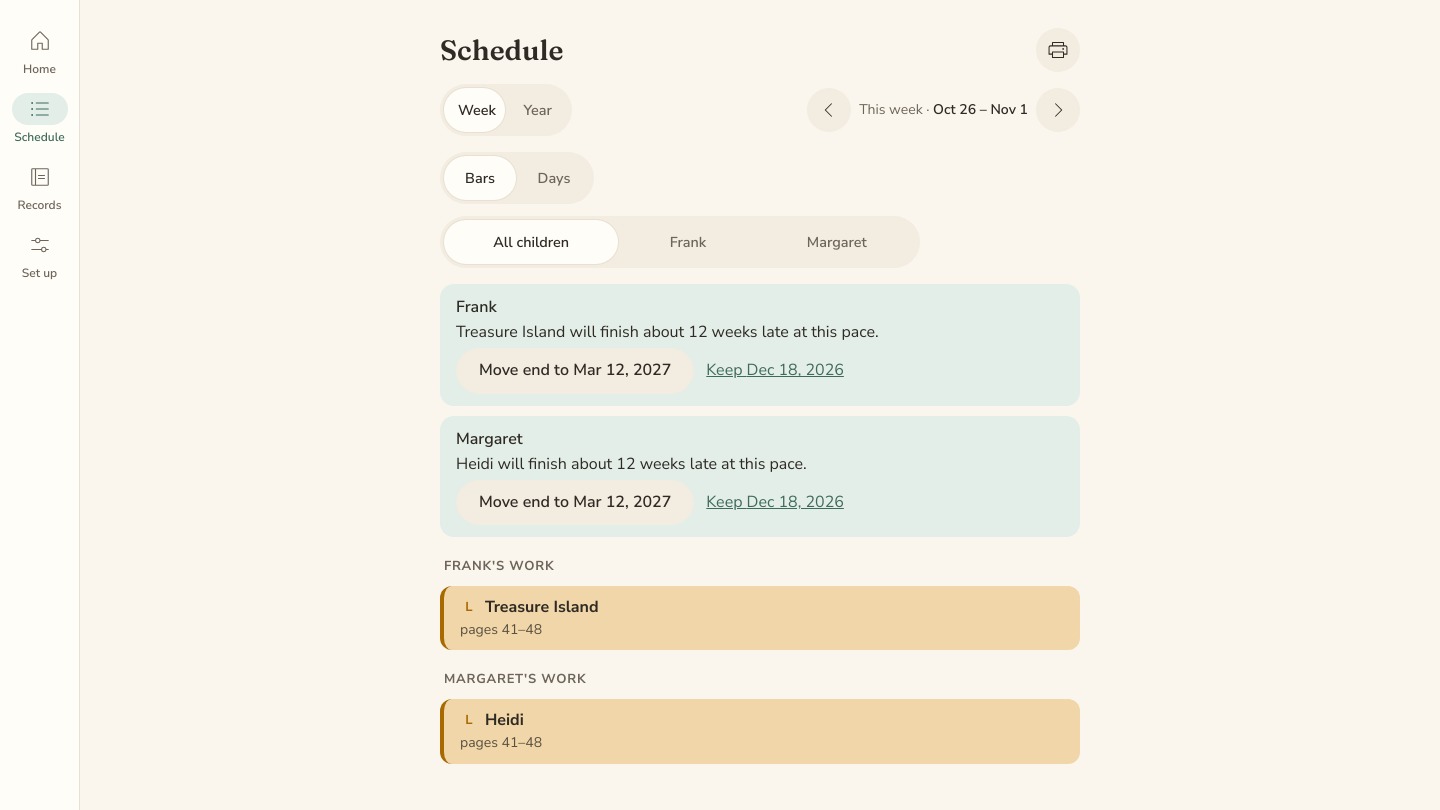
Test: 1. Schedule · Week: the briefing follows the child switch › All children shows both children's late lines; one child shows only theirs
The image size is (1440, 810).
Expected: the element named "Weekly briefing" is shown, [440,284,1080,537]
Click the button "Frank" at (688, 242), box [620,220,756,264]
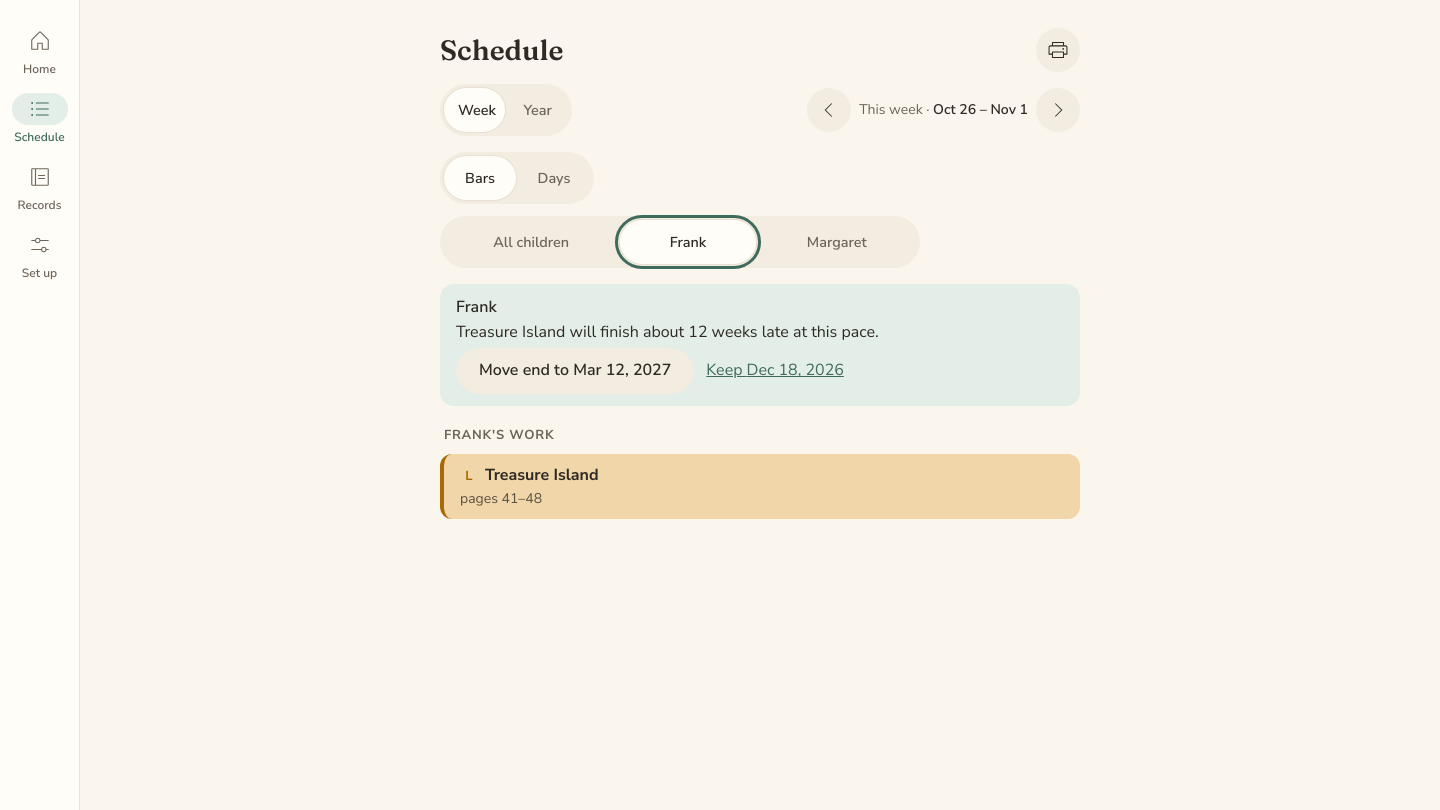
Expected: the 5th list item shows "Treasure Island", [456,321,879,343]
Expected: the list item no longer shows "Heidi"
Click the button "Margaret" at (837, 242), box [758,220,916,264]
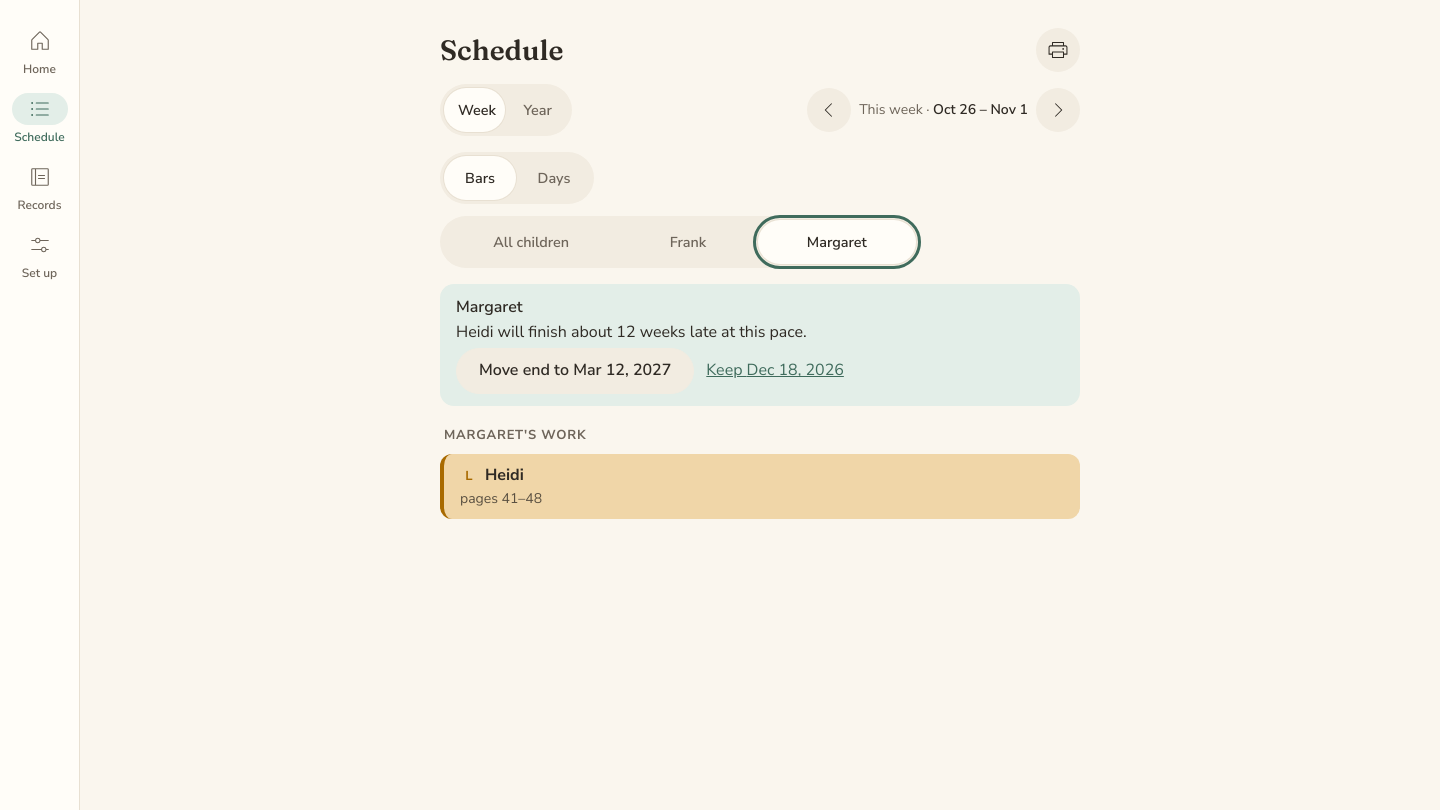
Expected: the 5th list item shows "Heidi", [456,321,807,343]
Expected: the list item no longer shows "Treasure Island"
